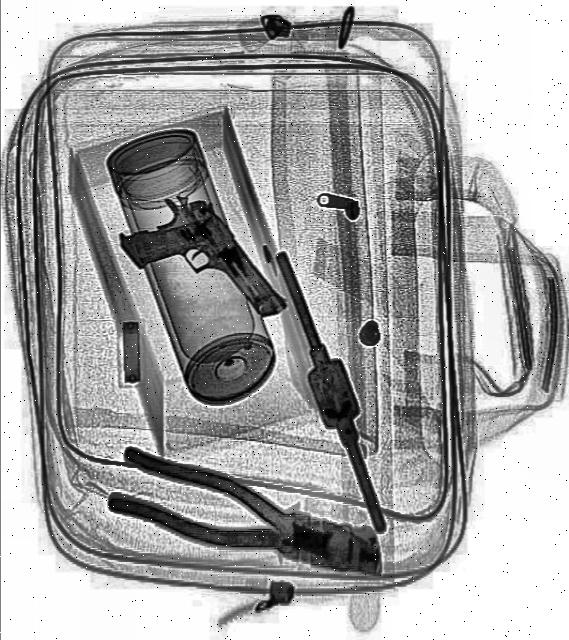Gun: (114, 178, 292, 370)
Pliers: (106, 447, 392, 598)
